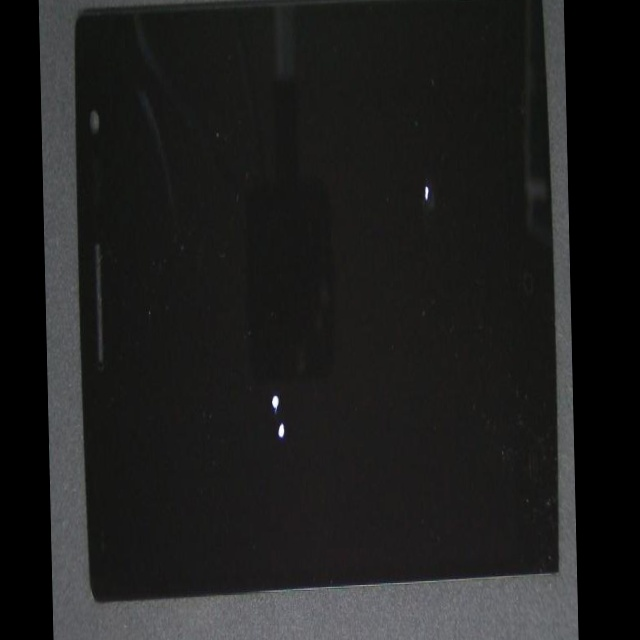stain: (205, 61, 572, 374), (169, 114, 387, 603)
